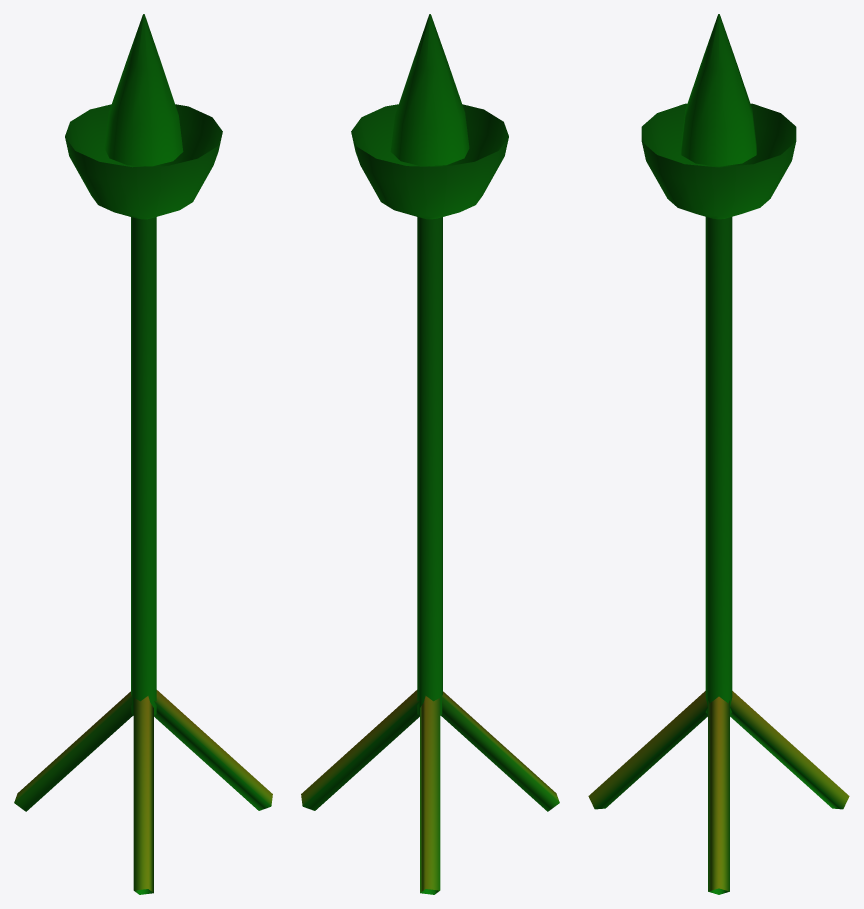
The model's file is gilt_lamp_stand.glb.
3 views of the same model, side by side, from view 1: azimuth 30°, elevation 25°; view 2: azimuth 150°, elevation 25°; view 3: azimuth 270°, elevation 25° (orthographic).
Visible parts, largest first — view 1: gilt_lamp_stand; view 2: gilt_lamp_stand; view 3: gilt_lamp_stand.
Part boxes in pixels (bbox=[...]): gilt_lamp_stand: bbox=[14, 14, 272, 894]; gilt_lamp_stand: bbox=[301, 14, 559, 894]; gilt_lamp_stand: bbox=[588, 14, 849, 894].
Size of what is drawn, in the model's own units: 0.522 by 2.07 by 0.5935.
